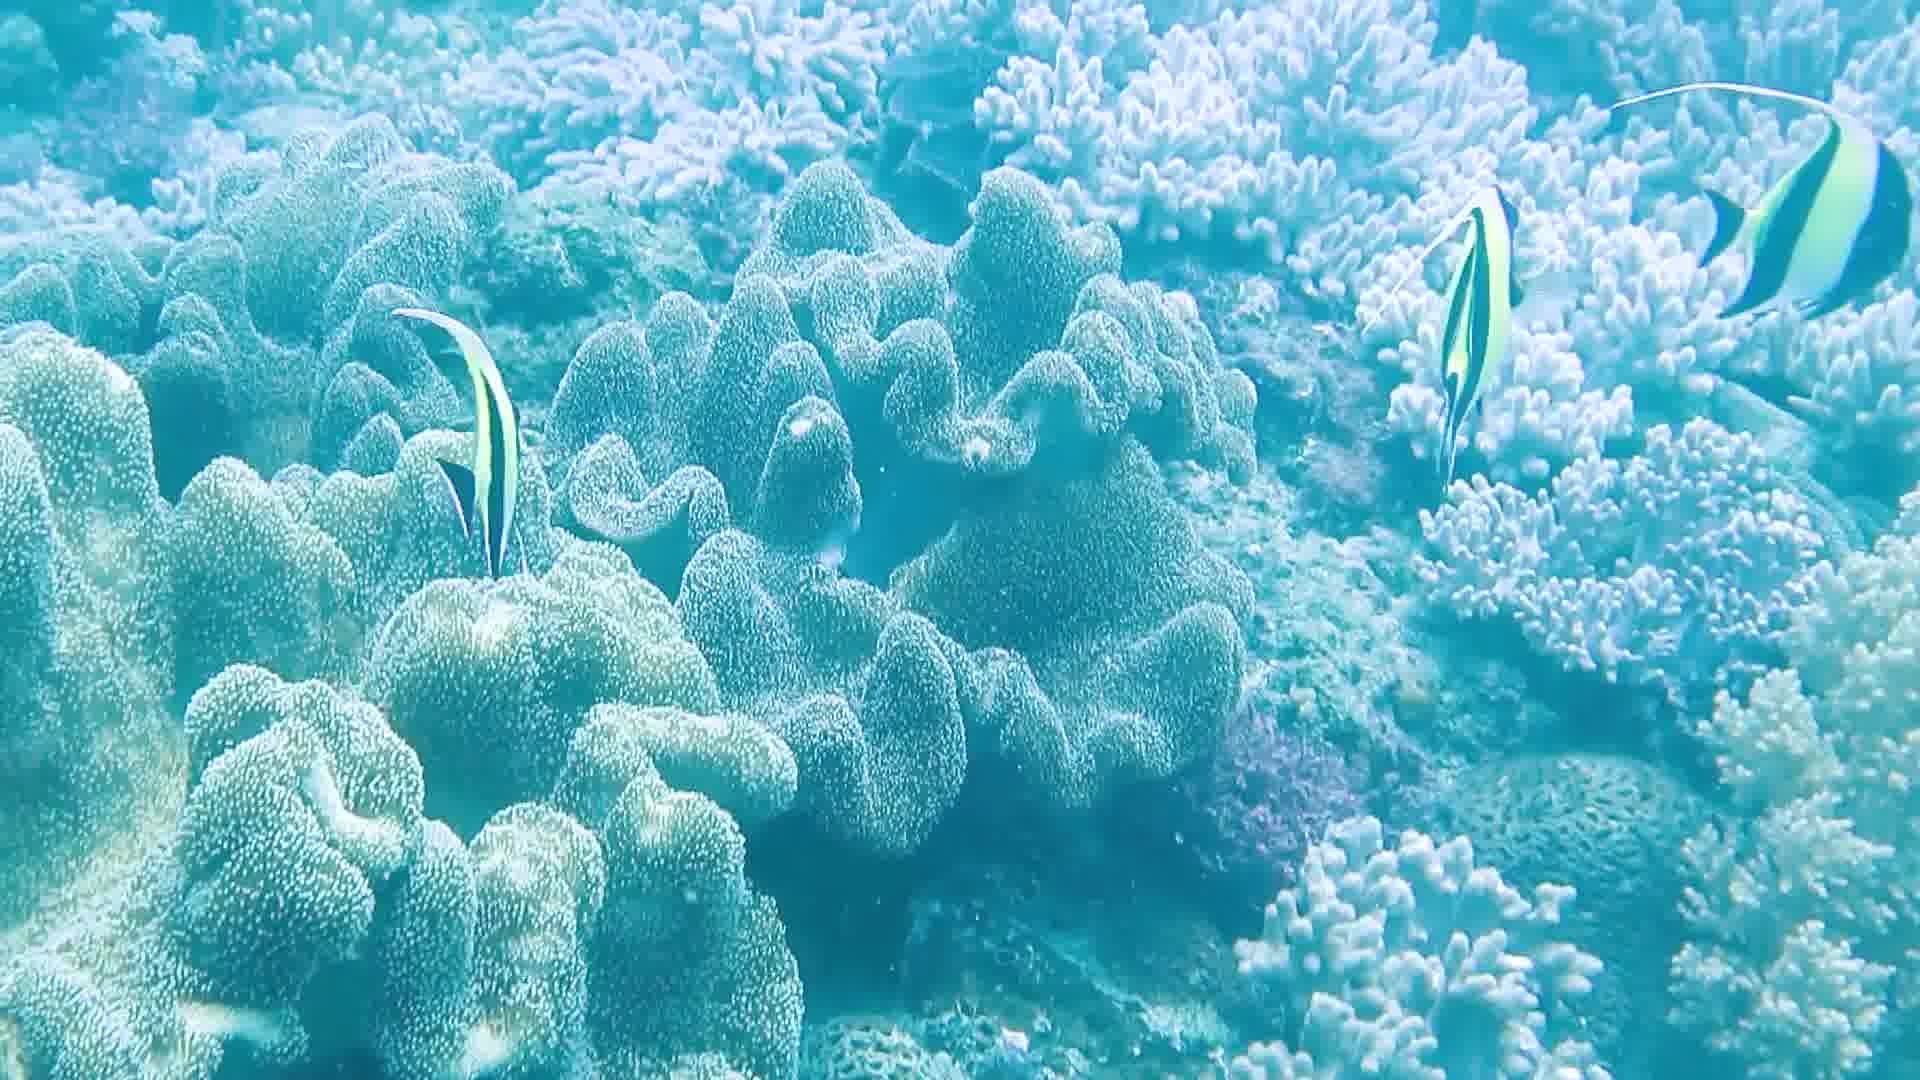Zanclus cornutus: (431, 277, 632, 618), (1687, 63, 1920, 349), (1379, 174, 1542, 481)
